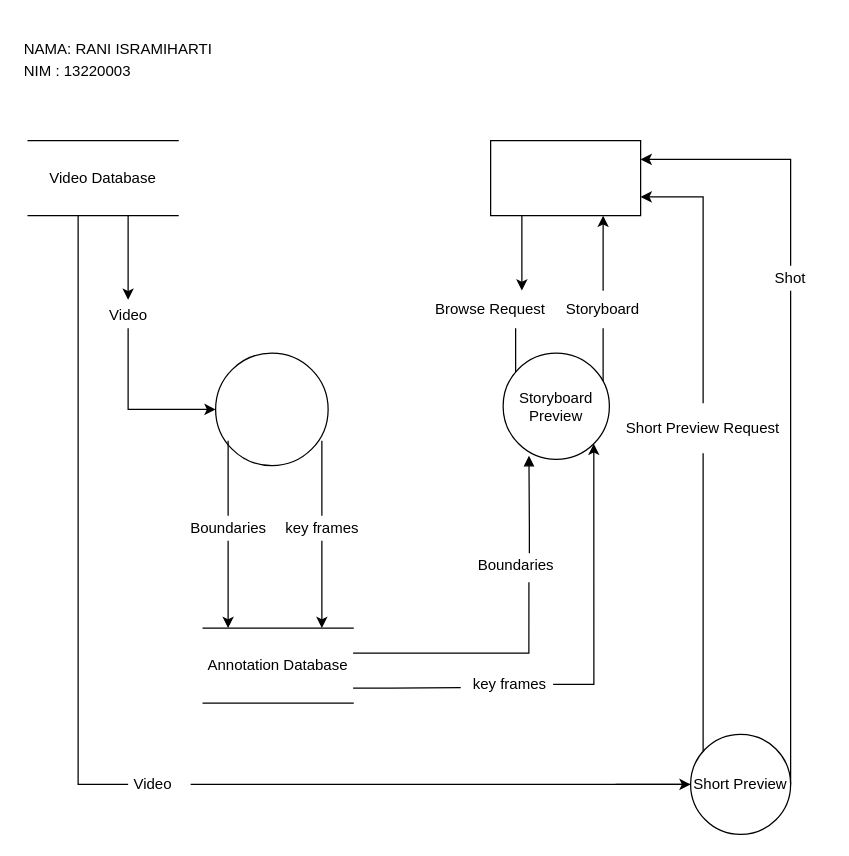
The diagram is 849 pixels wide and 856 high, and some of its shapes have lost their labels. Here are the shapes that lost their labels. From the top down, the centre of each, then its label:
(x=565, y=177): User
(x=271, y=409): Shot Boundary Detection
